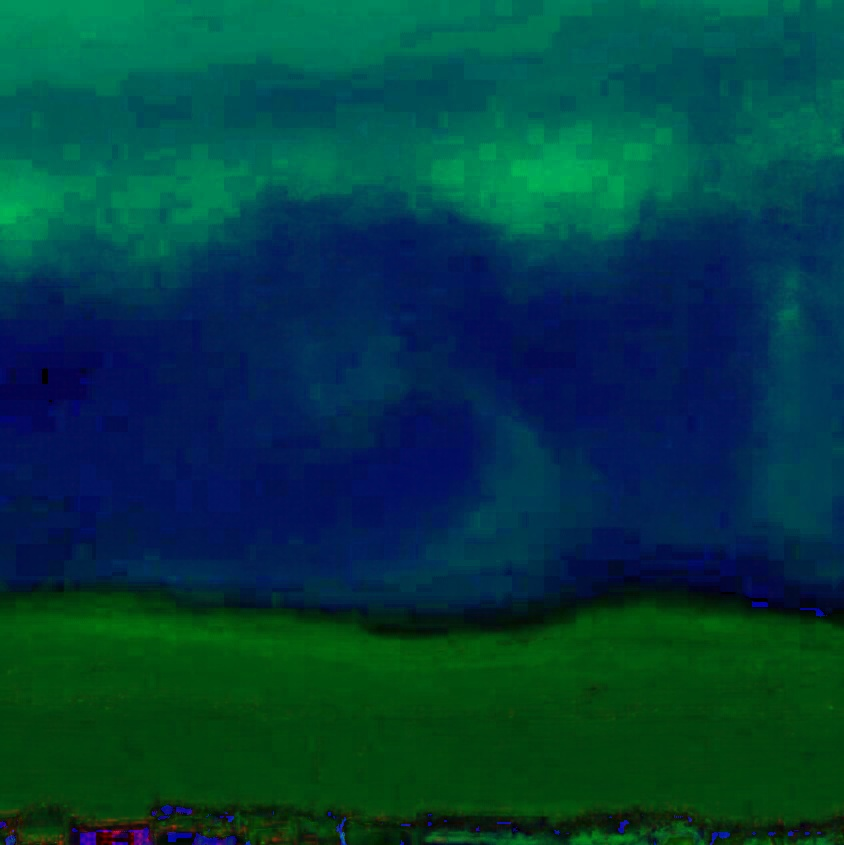rip_current: (247, 260, 628, 570)
